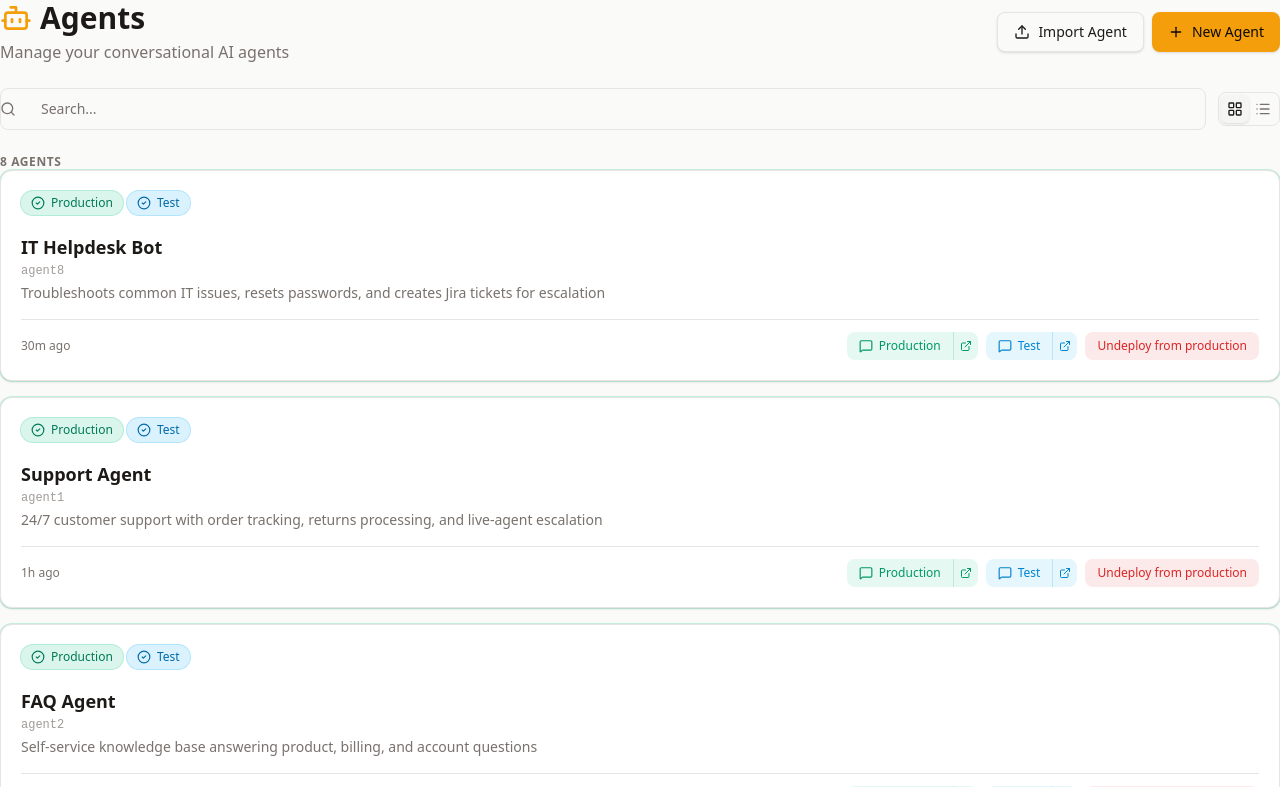
Test case: AgentsPage › shows the no-results empty state rather than the first-run one
In the field with test id "agent-search": (603, 109) [0, 88, 1206, 130], type "zzzznomatch"
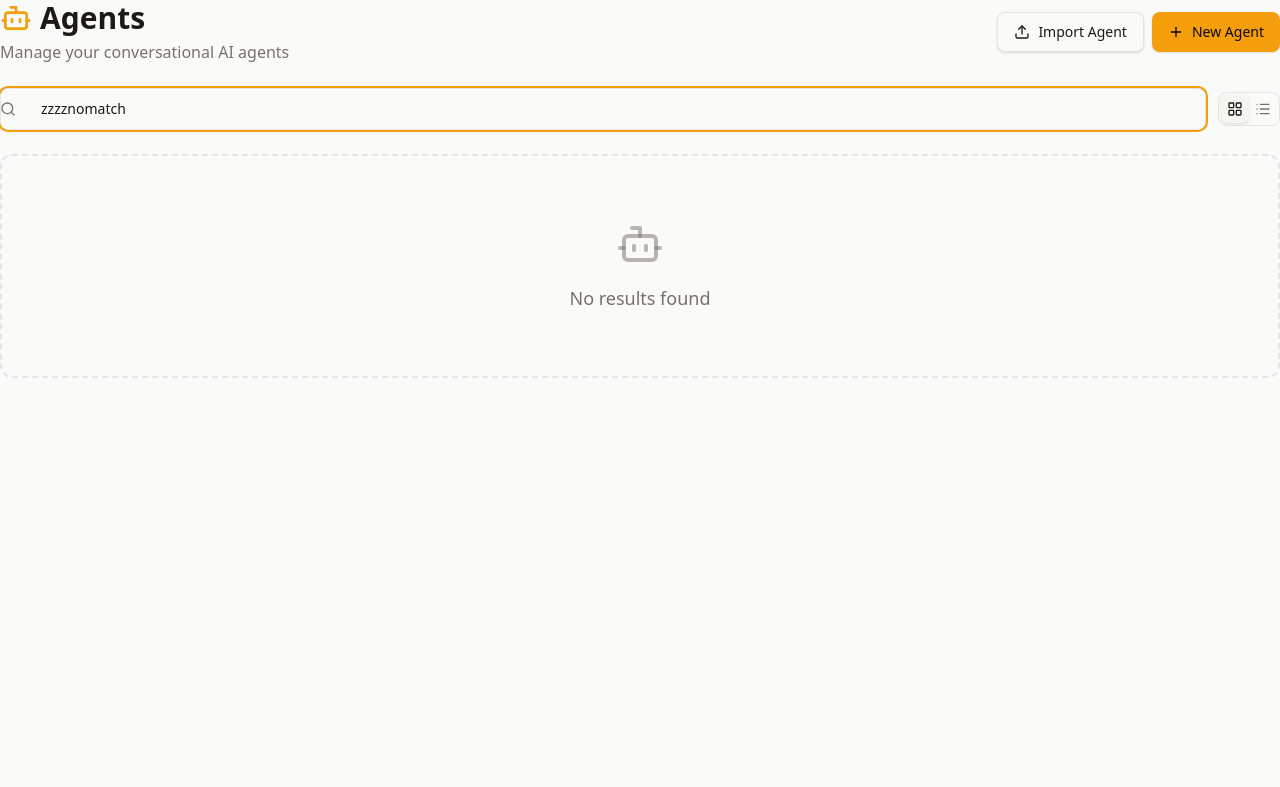
Check: the element with test id "empty-state" is shown, box [0, 154, 1279, 378]
Check: the element with test id "empty-state" shows "No results", box [570, 286, 711, 310]
Check: the button "Production" is gone
